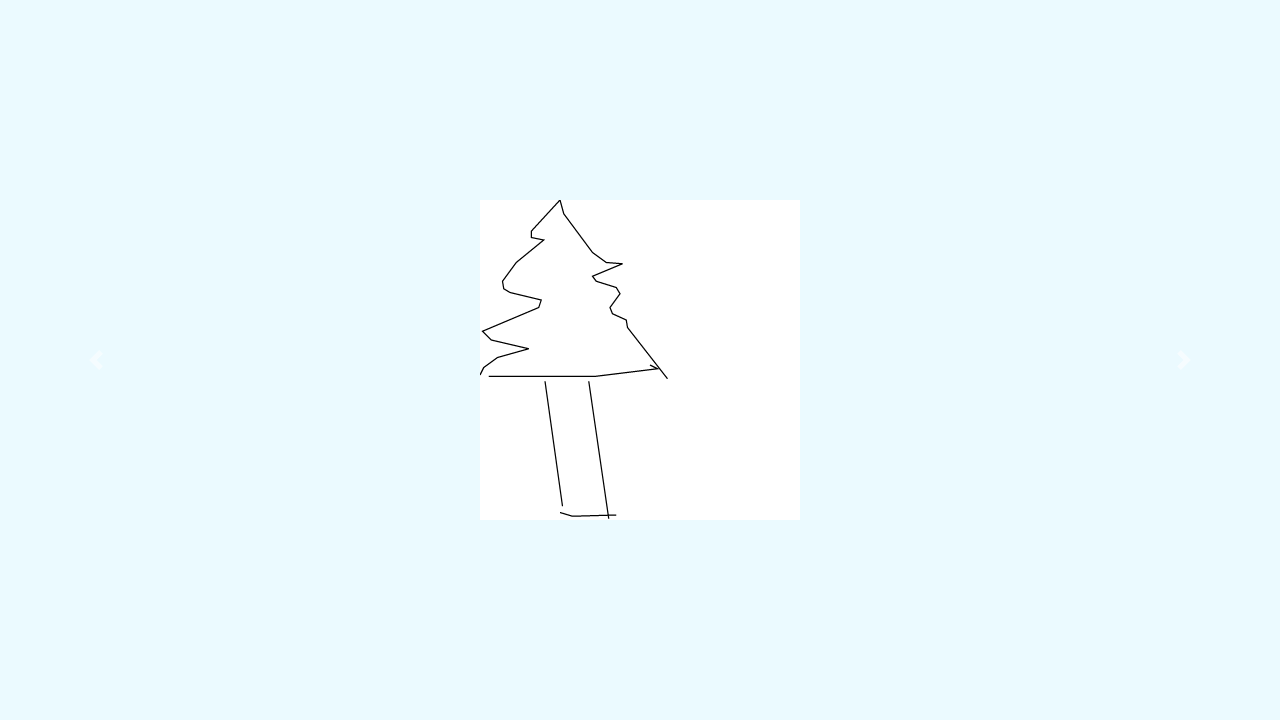tree: (468, 194, 673, 529)
